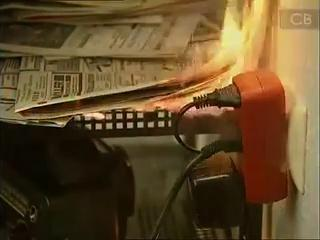Fire: (128, 11, 280, 120)
